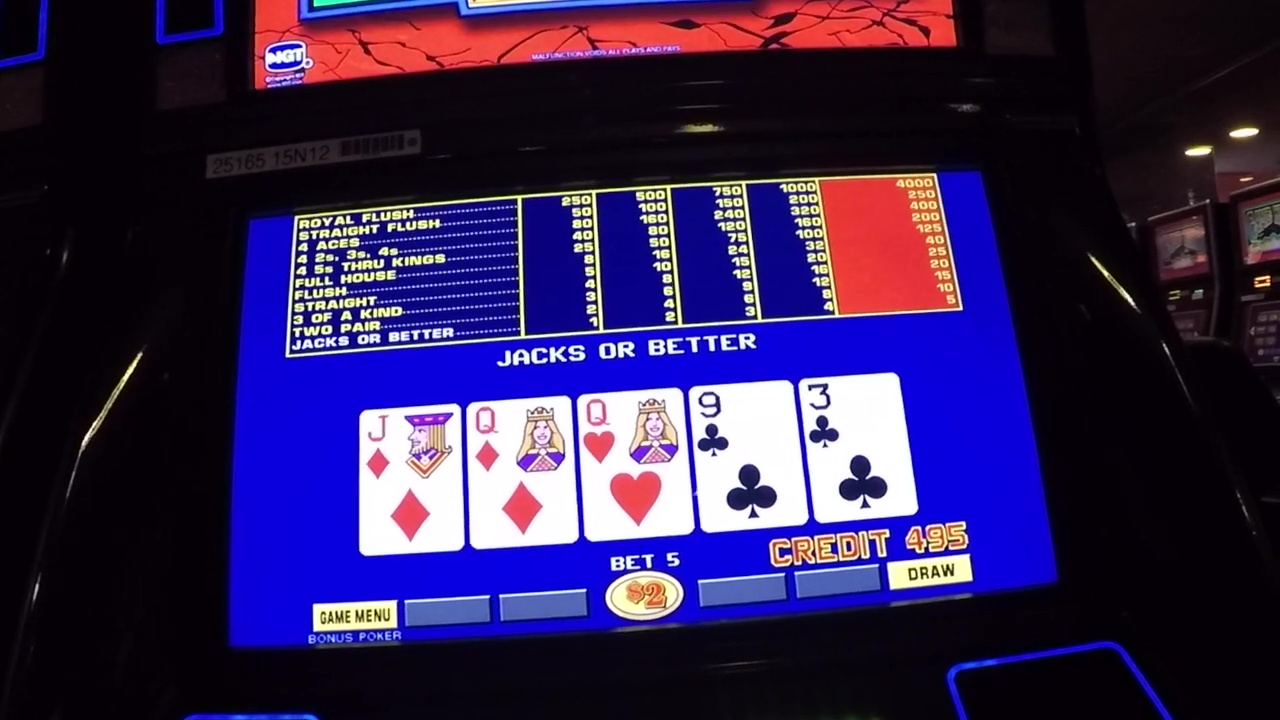C3: (804, 376, 901, 449)
C9: (695, 390, 792, 461)
DJ: (360, 414, 458, 482)
DQ: (469, 405, 571, 471)
HQ: (582, 397, 686, 470)
